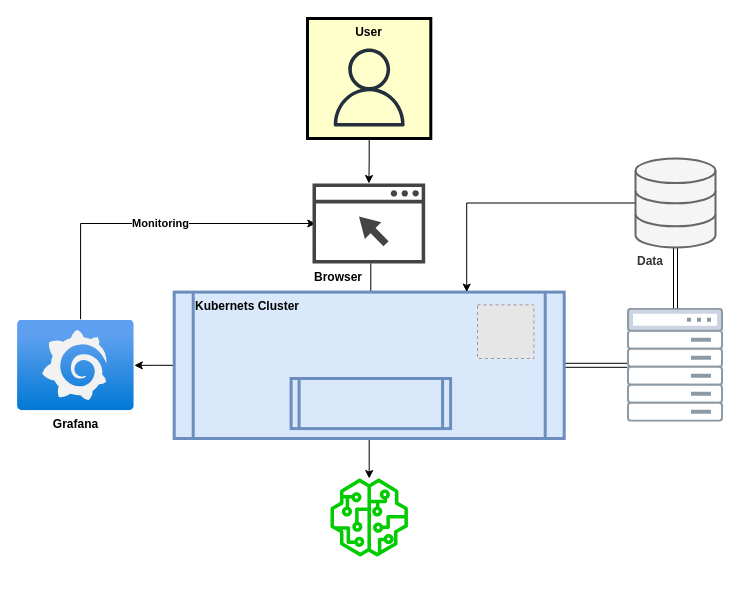
The diagram is 740 pixels wide and 595 high, and some of its shapes have lost their labels. Grey dashed boxes stand in for pictures. Each missing label, with the centre of its shape:
"AI-models" goes at [368,517].
"Hardware/ Laptops" goes at [675,365].
"Kubeflow" goes at [370,403].
